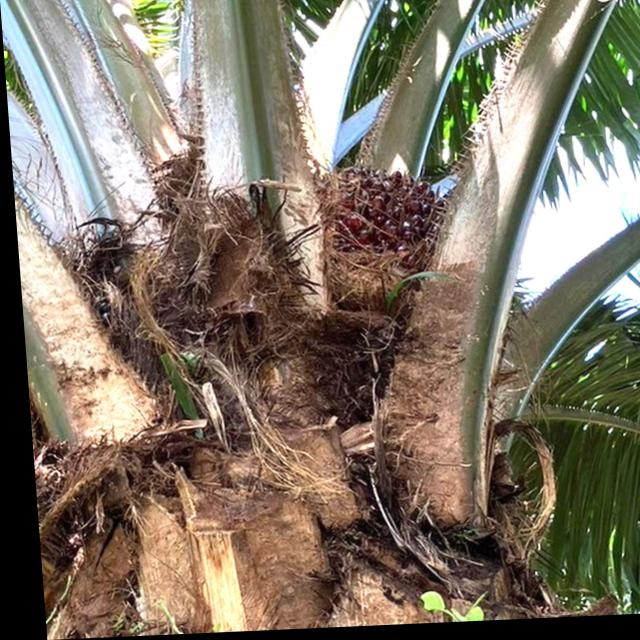ripe: (322, 173, 440, 273)
